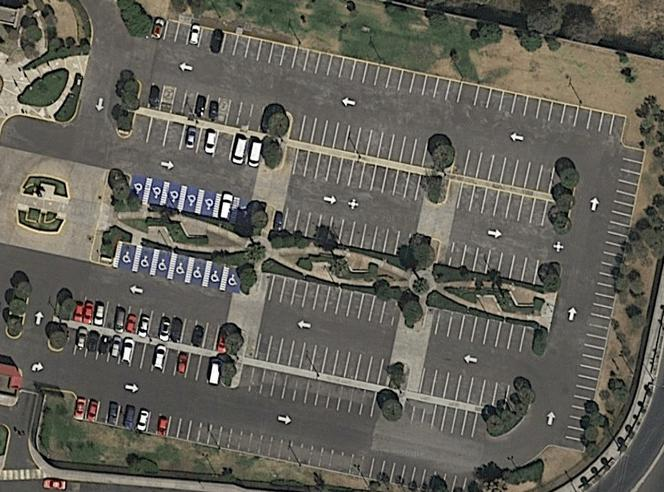parkingspot: (146, 17, 628, 139), (72, 395, 479, 492), (562, 144, 647, 453), (69, 293, 233, 355), (61, 326, 225, 388), (279, 144, 431, 204), (242, 329, 395, 388), (237, 363, 389, 421), (288, 113, 441, 170), (256, 272, 407, 329), (270, 203, 415, 259), (127, 112, 265, 170), (443, 178, 561, 231), (419, 305, 538, 356), (450, 146, 565, 197), (405, 363, 522, 413), (435, 238, 553, 287), (400, 397, 491, 441), (224, 98, 283, 136), (169, 86, 223, 125), (135, 79, 166, 113), (164, 181, 184, 212), (224, 266, 244, 297), (129, 173, 149, 203), (181, 185, 201, 215), (117, 243, 137, 273), (136, 246, 155, 277), (154, 249, 173, 280), (206, 261, 225, 292), (199, 189, 218, 219), (233, 197, 252, 227), (171, 254, 190, 284), (147, 177, 165, 207), (217, 193, 235, 223), (189, 258, 207, 288)
